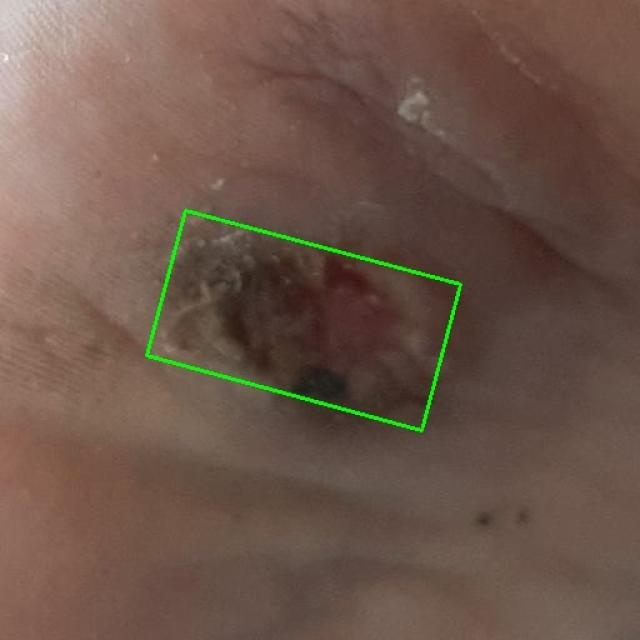Eczema: (147, 211, 461, 430)
